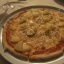pizza: (5, 11, 64, 58)
